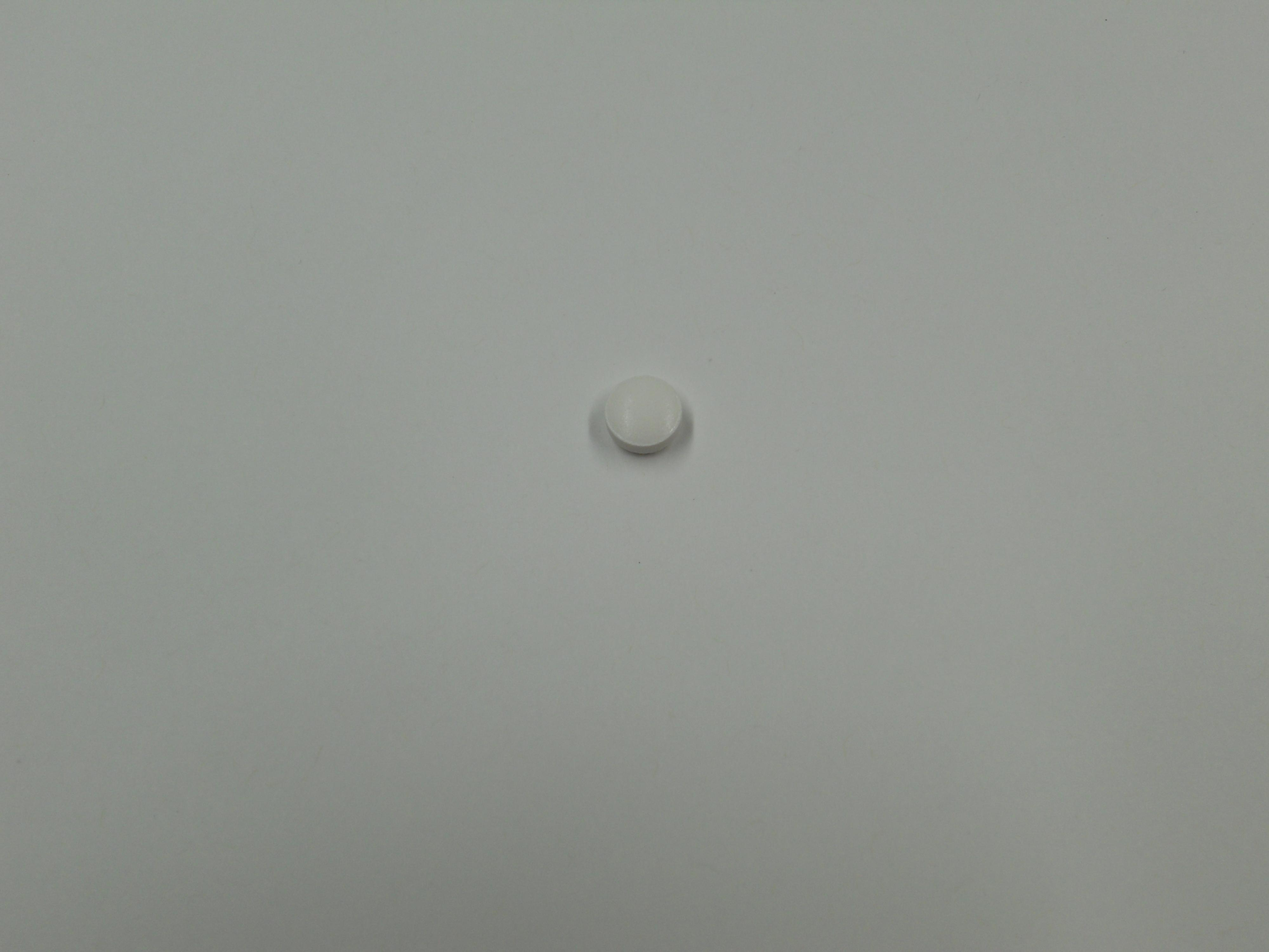Pill: (595, 370, 692, 462)
